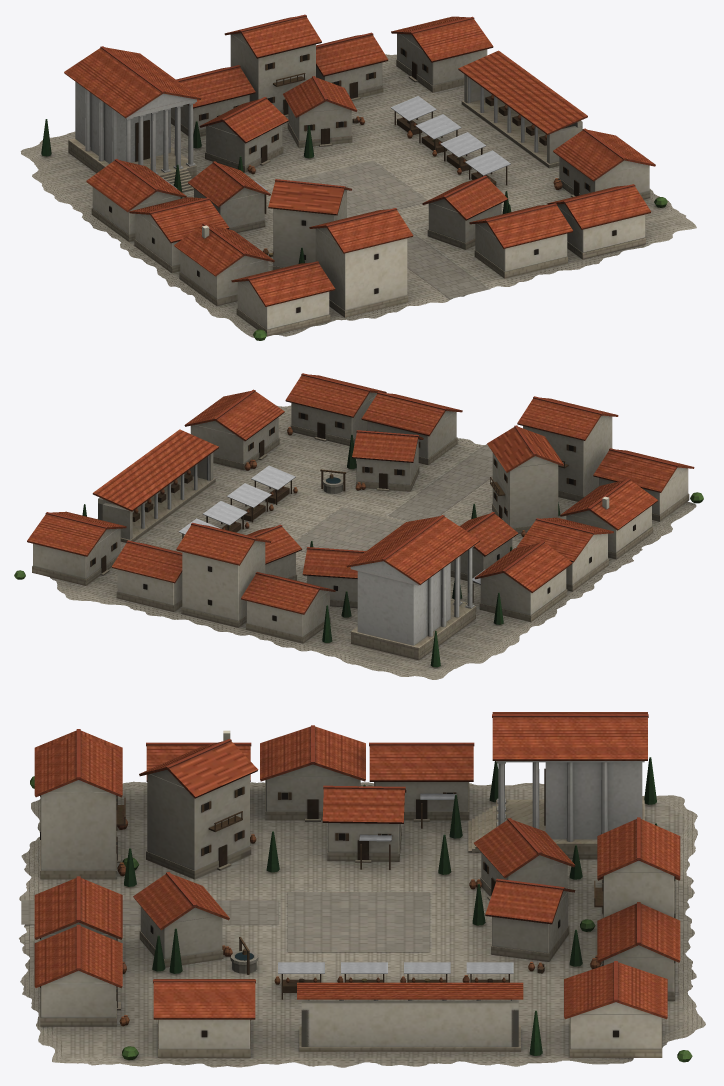
File: classical-town-medium-a.glb
3 views of the same model, one above another, from view 1: azimuth 30°, elevation 25°; view 2: azimuth 150°, elevation 25°; view 3: azimuth 270°, elevation 25° (orthographic). The views are drawn at different scales.
Visible parts, largest first — view 1: LOD0; view 2: LOD0; view 3: LOD0.
Part boxes in pixels (x1=…): LOD0: x1=20, y1=14, x2=696, y2=340; LOD0: x1=14, y1=373, x2=703, y2=679; LOD0: x1=19, y1=712, x2=705, y2=1067.
Size of what is drawn, in the model's own units: 6.03 by 1.21 by 6.09.
3 materials, 3 textured.
